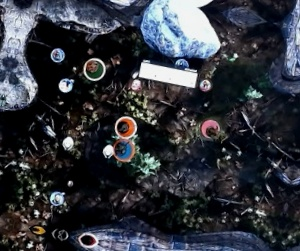green: (81, 55, 108, 82)
light_blue_orange: (110, 137, 137, 164)
orange: (113, 114, 141, 141)
pink_green: (198, 115, 225, 142)
